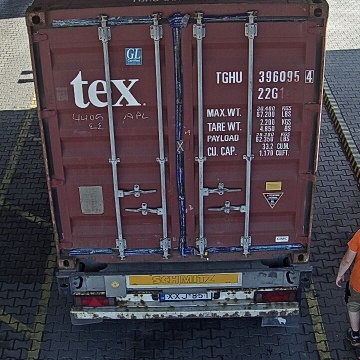serial_id: (216, 70, 314, 83)
